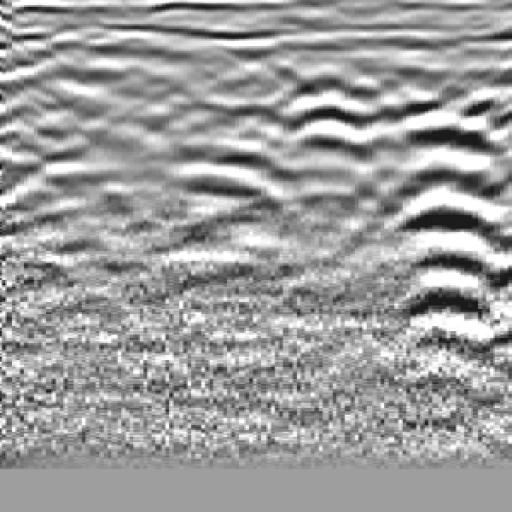metalic: (139, 32, 324, 335)
nonmetalic: (389, 43, 512, 327)
